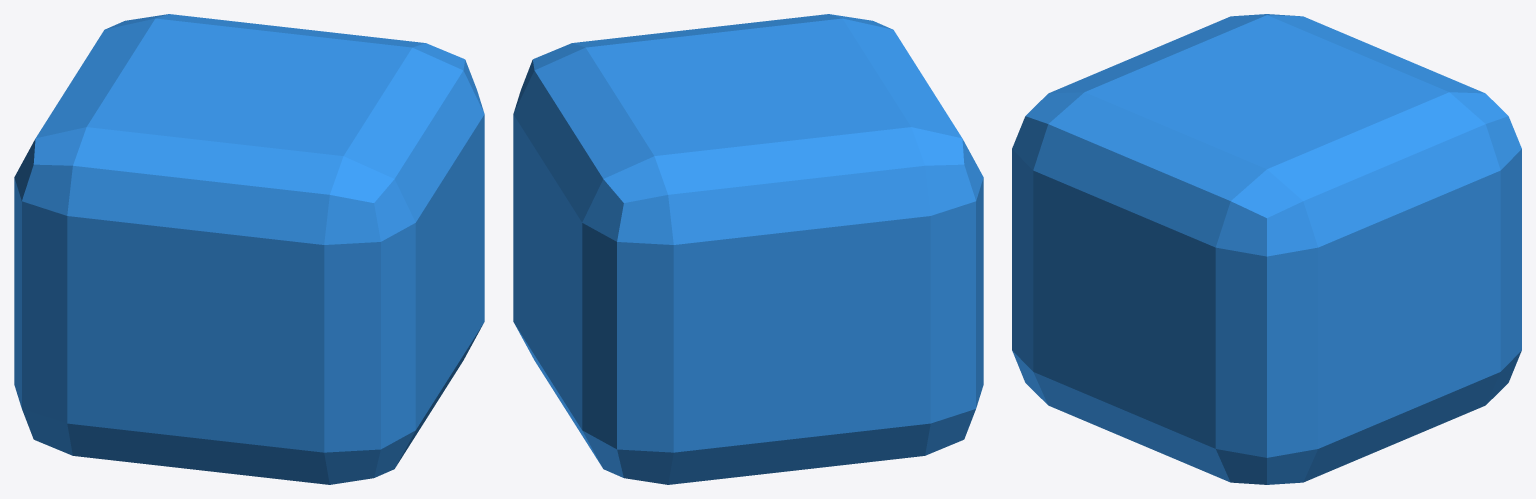
Rendered from Candy_02.fbx.
3 views of the same model, side by side, from view 1: azimuth 30°, elevation 25°; view 2: azimuth 150°, elevation 25°; view 3: azimuth 270°, elevation 25° (orthographic). The views are drawn at different scales.
Parts seen in each view (by area): view 1: Candy_02_Mesh; view 2: Candy_02_Mesh; view 3: Candy_02_Mesh.
Part boxes in pixels (x1,y1,x2,y2): Candy_02_Mesh: (14,14,484,484); Candy_02_Mesh: (513,14,983,484); Candy_02_Mesh: (1012,14,1521,484).
Size of the model in its own units: 0.9109 by 0.62 by 0.9109.
